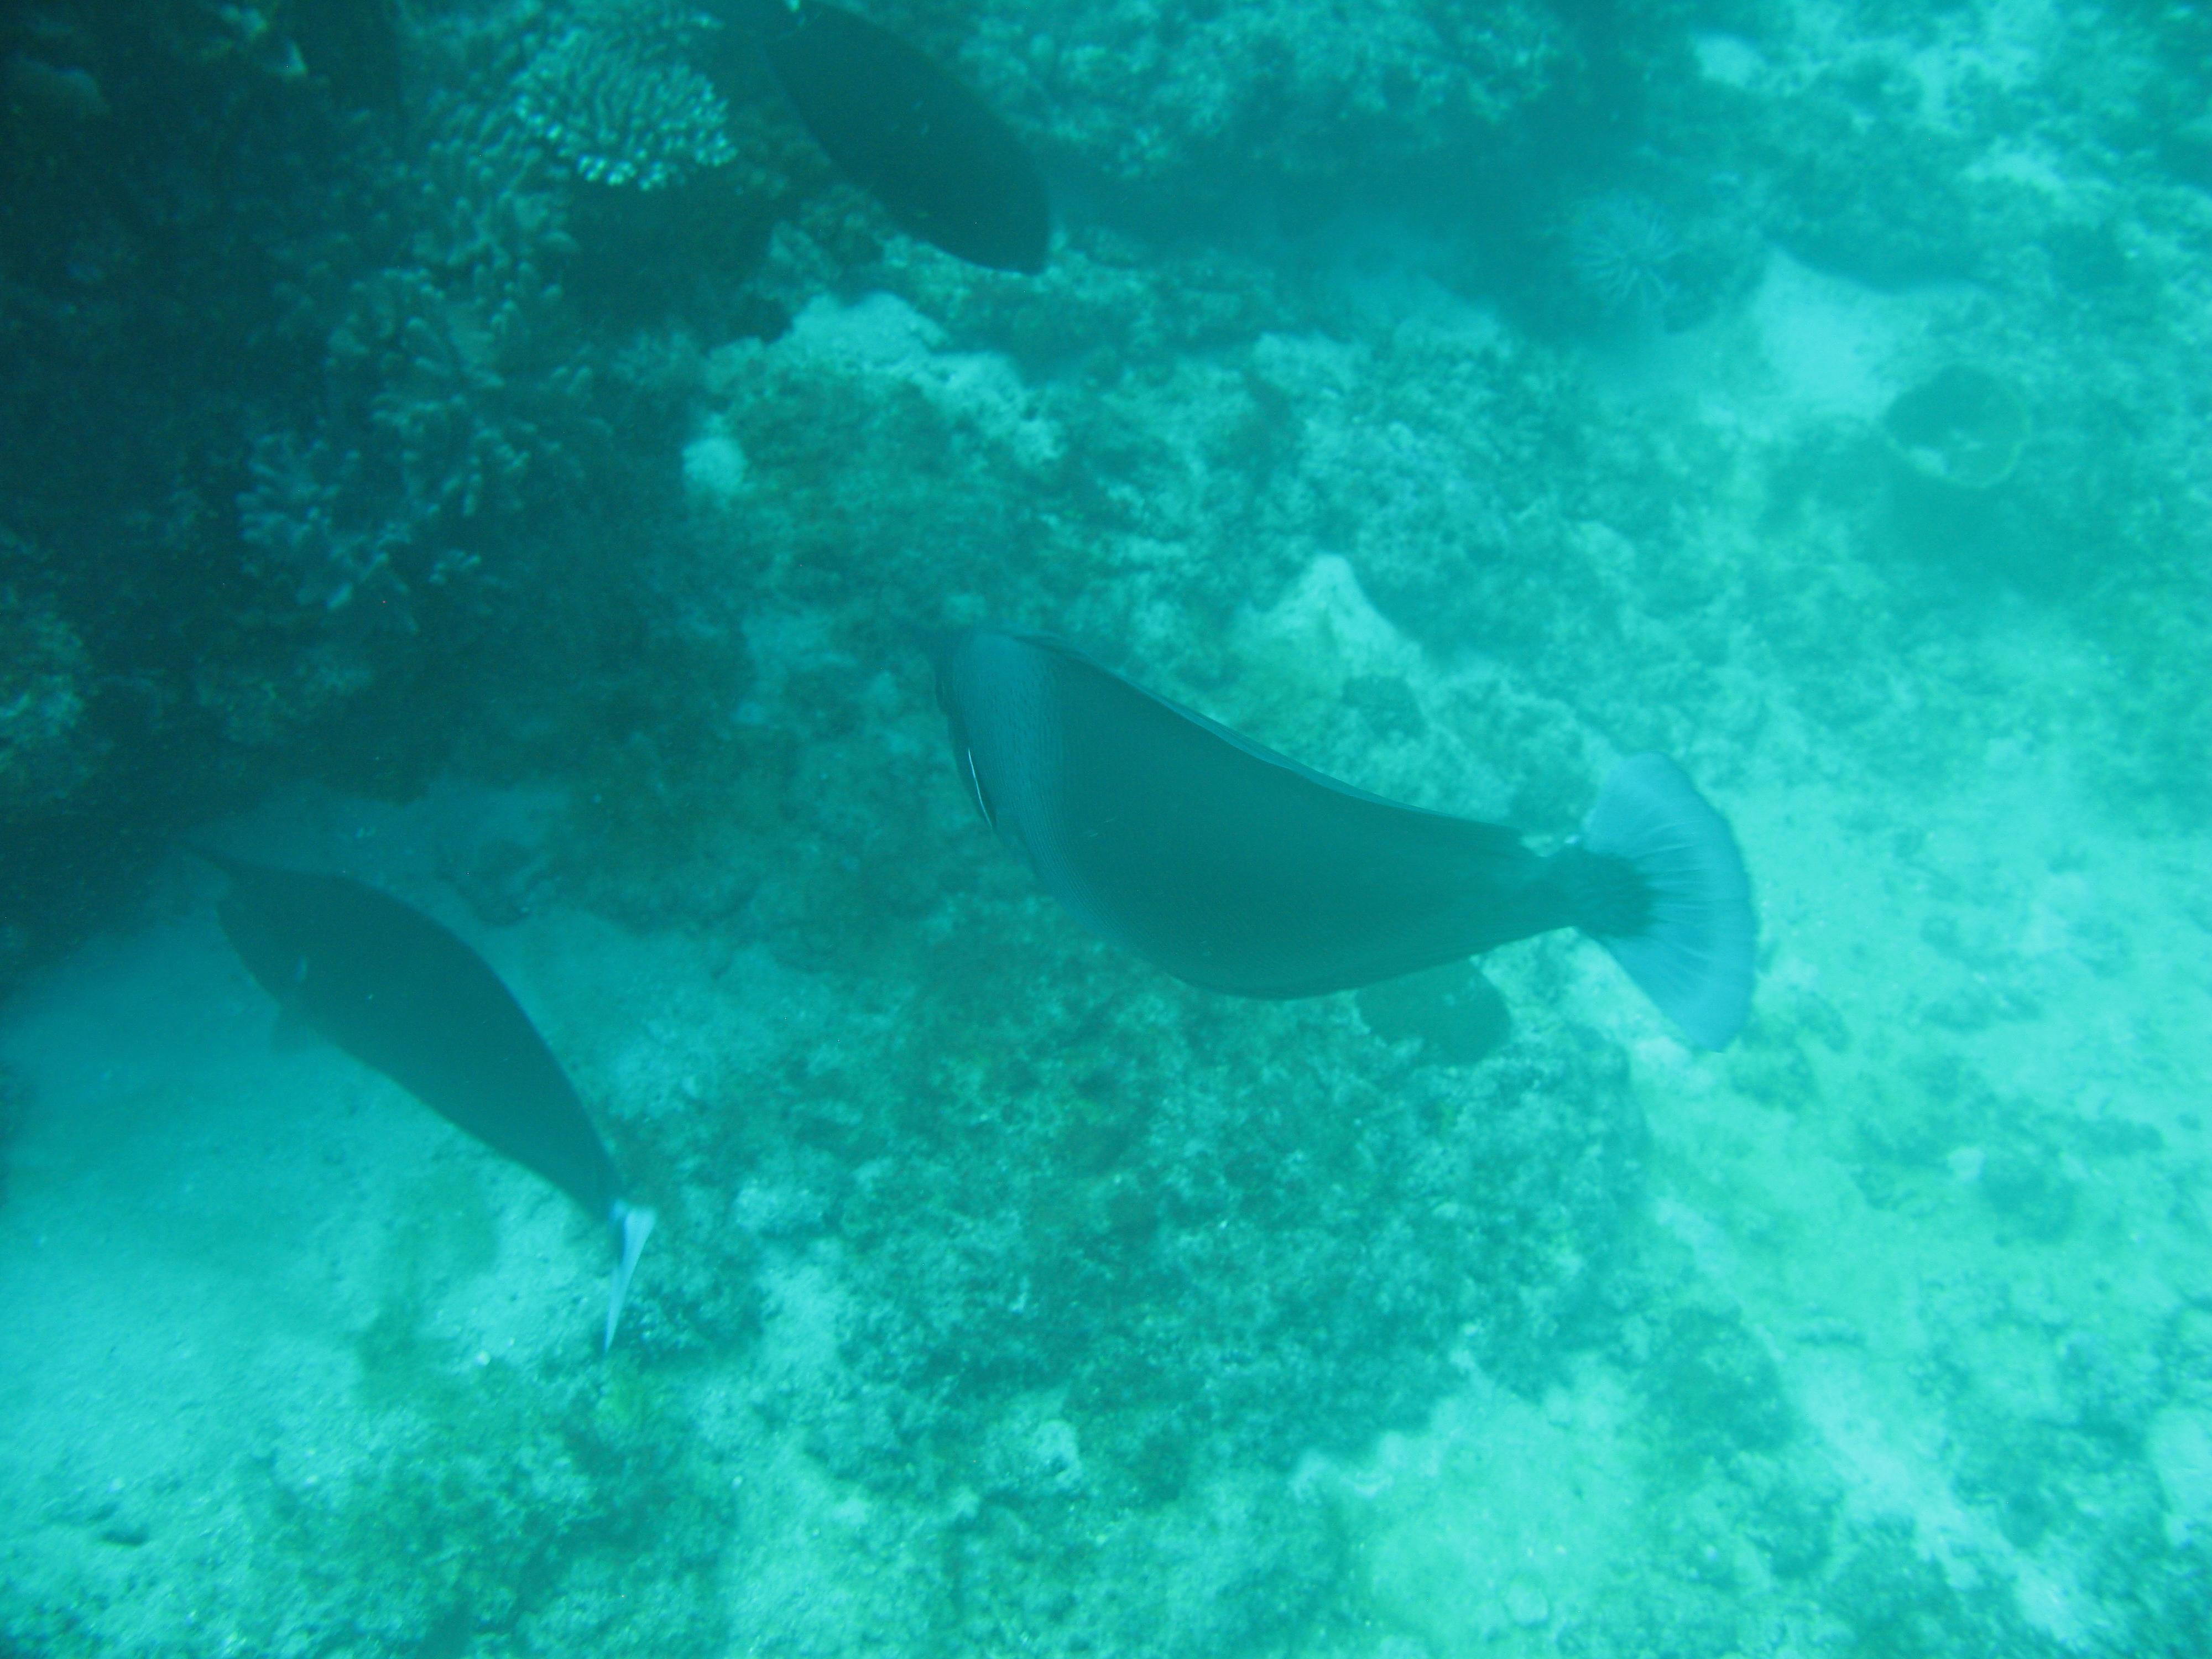Naso brevicordatus: (796, 547, 1834, 1080), (80, 807, 937, 1368)
